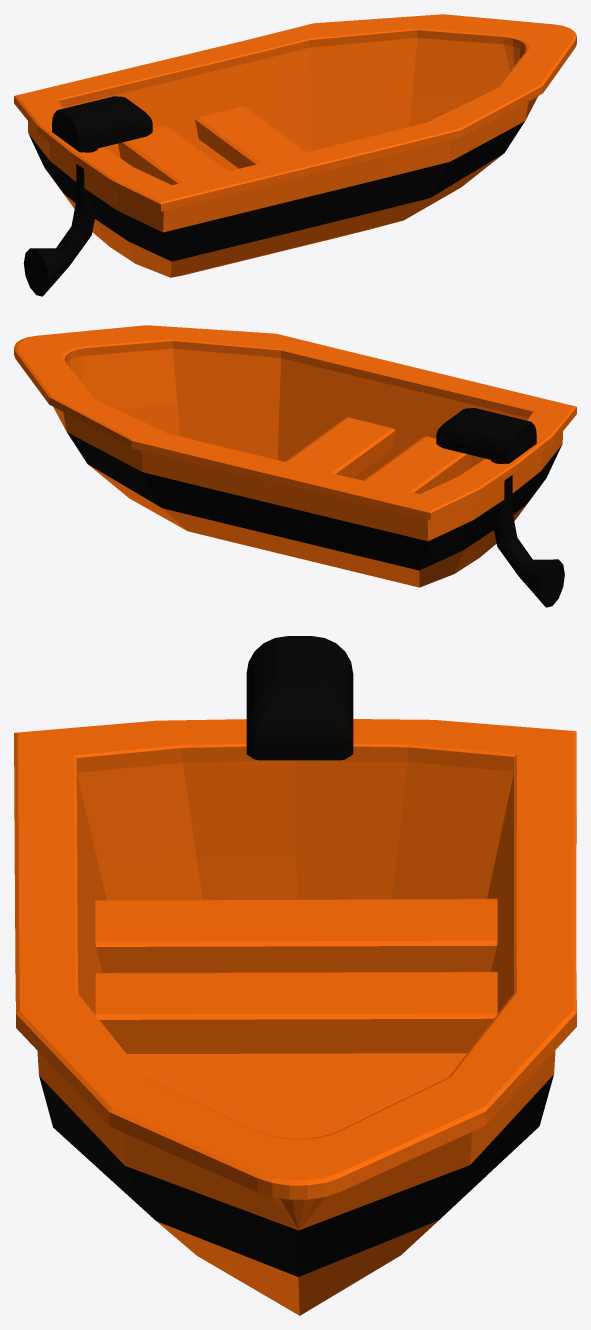
The model's file is RescueBoat.fbx.
3 views of the same model, one above another, from view 1: azimuth 30°, elevation 25°; view 2: azimuth 150°, elevation 25°; view 3: azimuth 270°, elevation 25° (orthographic). The views are drawn at different scales.
Parts seen in each view (by area): view 1: Rescue Boat; view 2: Rescue Boat; view 3: Rescue Boat.
Boxes of the visible parts, box(x1,y1,x2,y2) form: Rescue Boat: box(14, 14, 576, 296); Rescue Boat: box(14, 325, 576, 607); Rescue Boat: box(14, 636, 576, 1315).
Size of the model in its own units: 1953 by 607 by 927.
